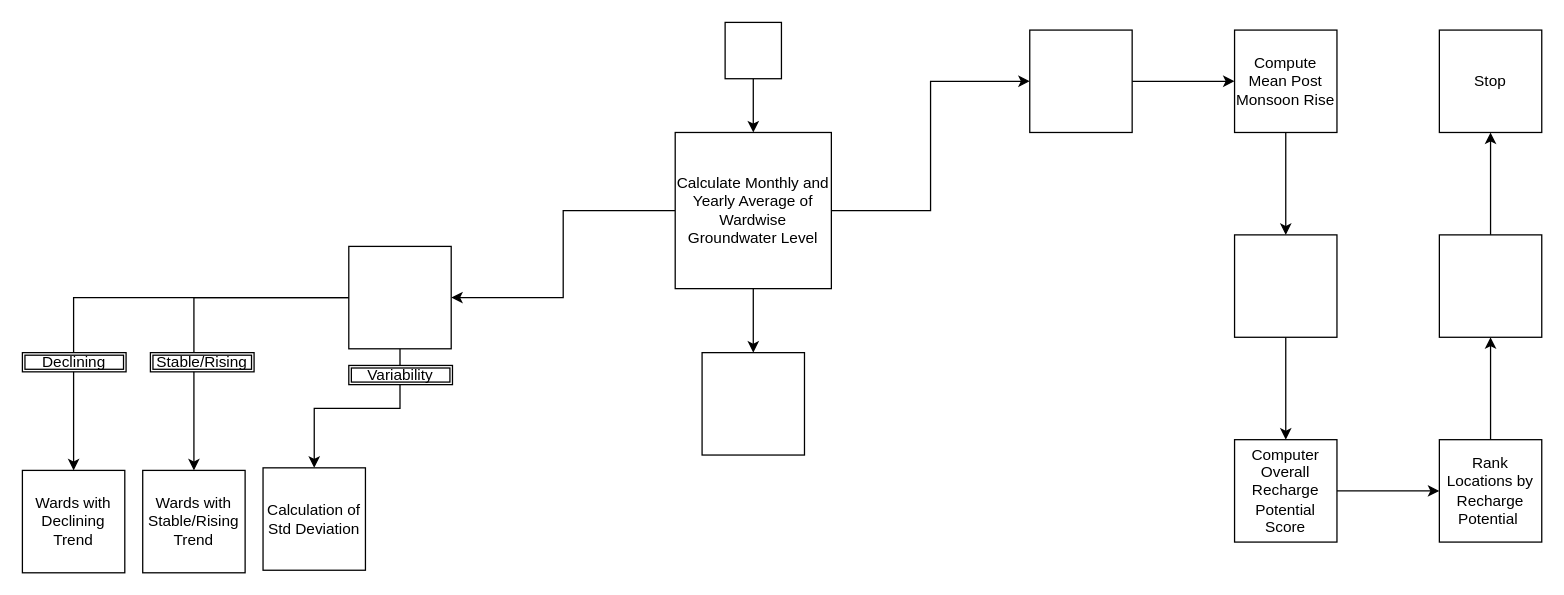
Some shapes in this 1564 by 595 pixel diagram are drawn without their labels. The box of each missing label's shape, as (x1, y1, x2, y2) in pixels:
Calculate Max Level, Min Level and Change from 2021 to 2024: (701, 351, 804, 455)
Flag wards with Signigficant Rise: (1233, 234, 1337, 337)
Get Top 5 Wards per Area in Chennai: (1438, 234, 1542, 337)
Identify Ward Based on Yearly Average Water Level: (348, 245, 451, 349)
Identify Wards with Significant Post Monsoon Rise: (1028, 29, 1132, 132)
Start: (724, 21, 781, 79)
